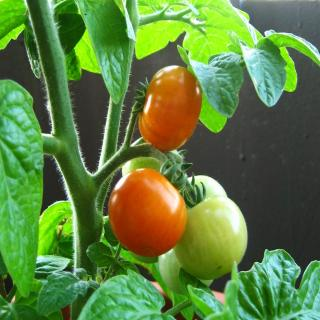tomato: (158, 176, 227, 293), (173, 180, 247, 280), (111, 168, 191, 255), (132, 65, 203, 154)
